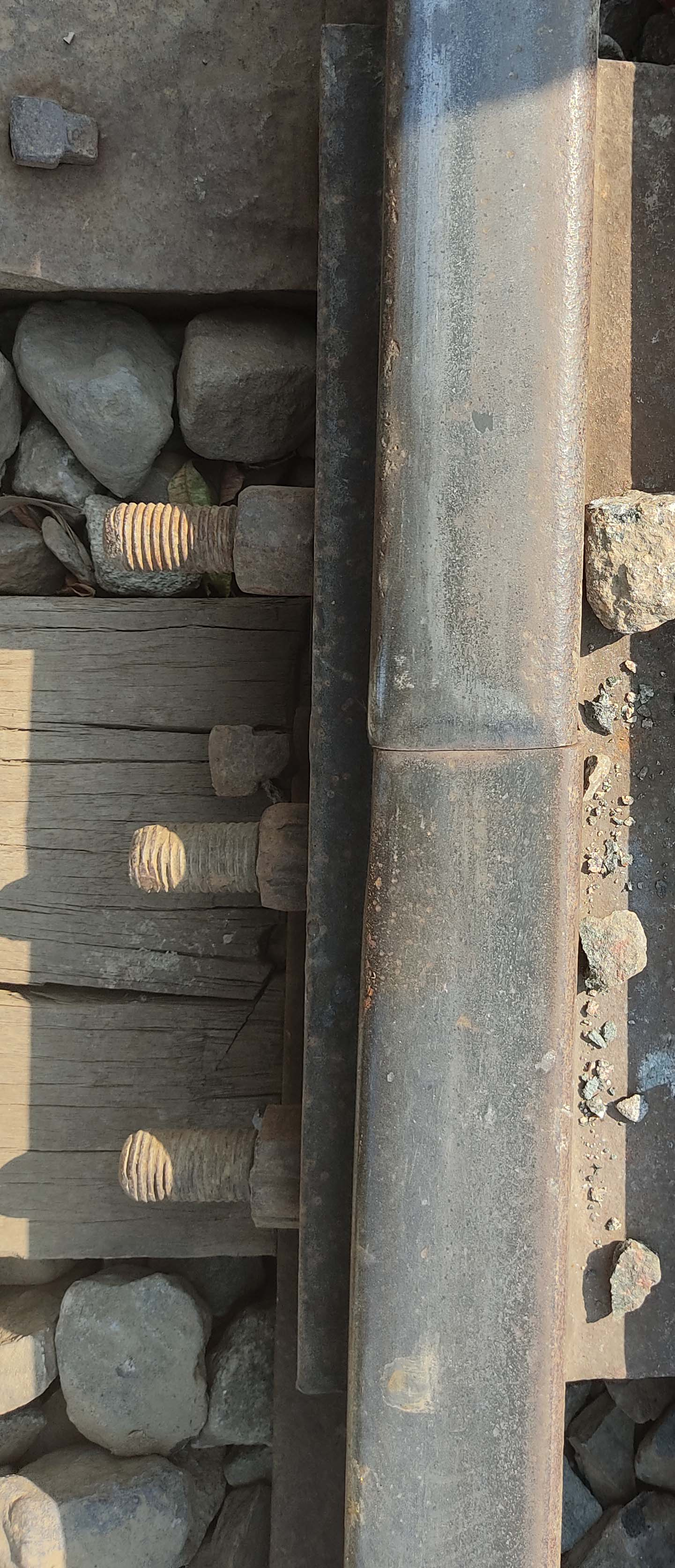duan lie: (373, 706, 612, 818)
